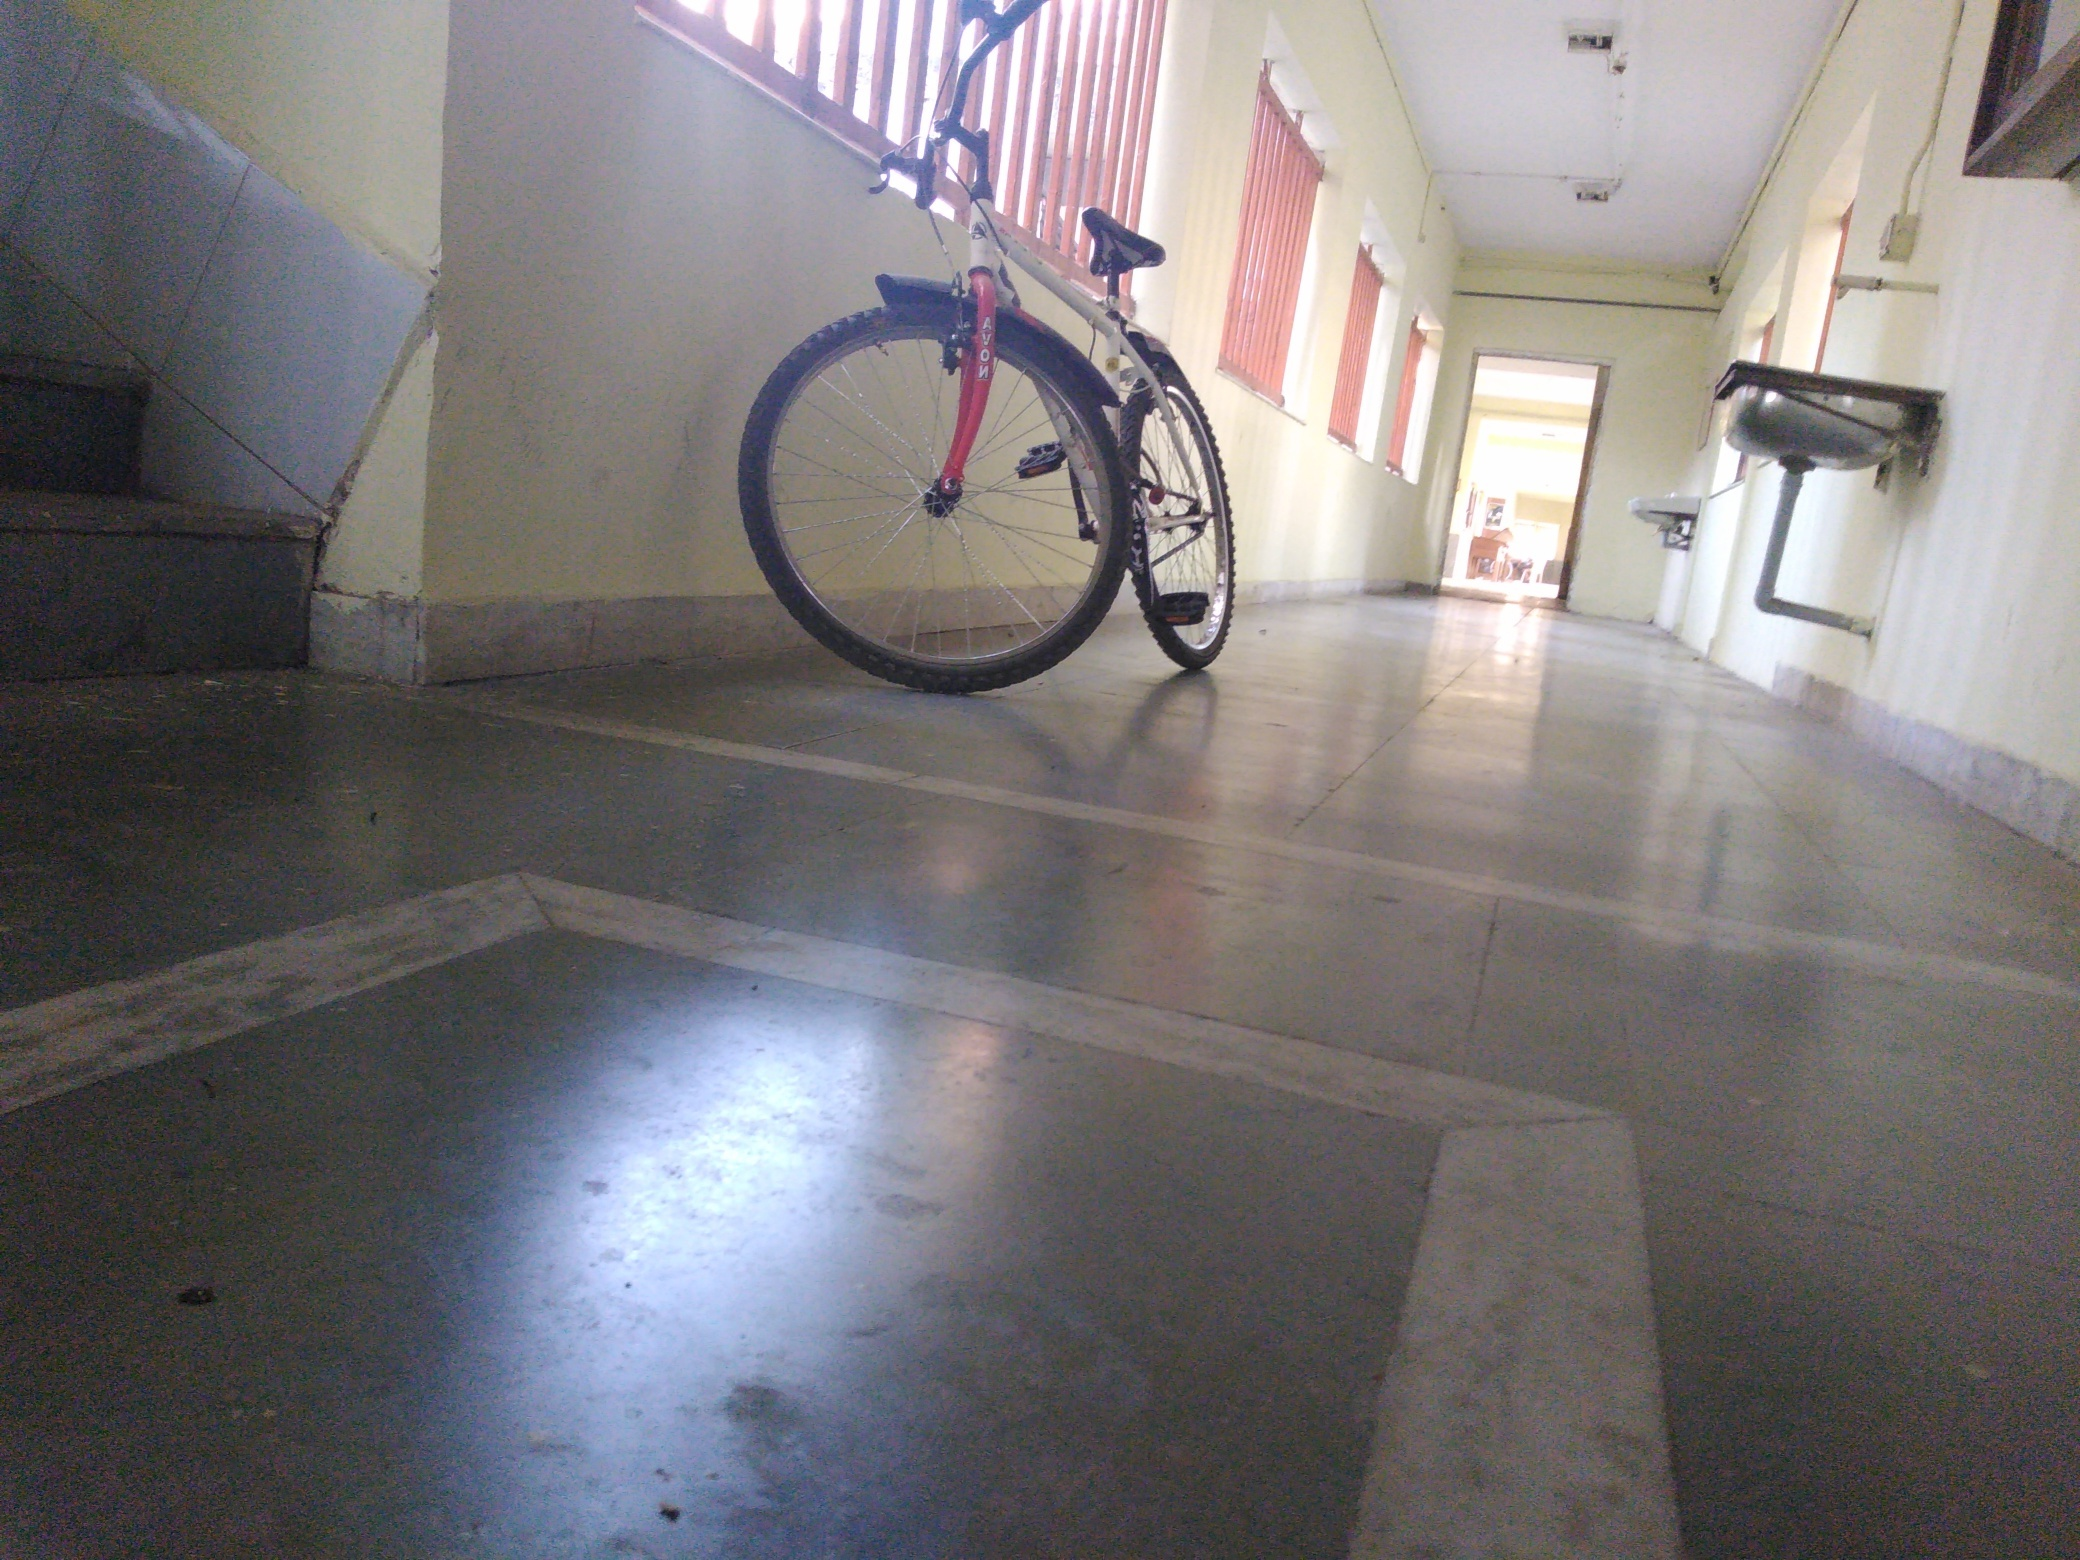stairs_up: (7, 338, 347, 695)
